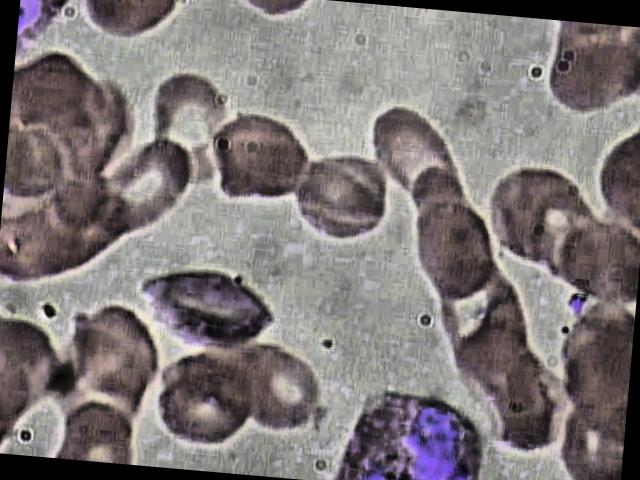Platelets: (560, 290, 592, 318)
RBC: (131, 258, 288, 357), (66, 299, 176, 417), (140, 71, 246, 190), (428, 266, 537, 378), (396, 197, 500, 306), (362, 106, 468, 200), (288, 152, 394, 246), (219, 344, 325, 438), (150, 360, 256, 454), (541, 215, 640, 311), (206, 113, 308, 206), (542, 37, 640, 122), (8, 50, 97, 140), (0, 201, 84, 292), (548, 398, 626, 480), (79, 0, 182, 51)
WBC: (338, 379, 492, 480)
